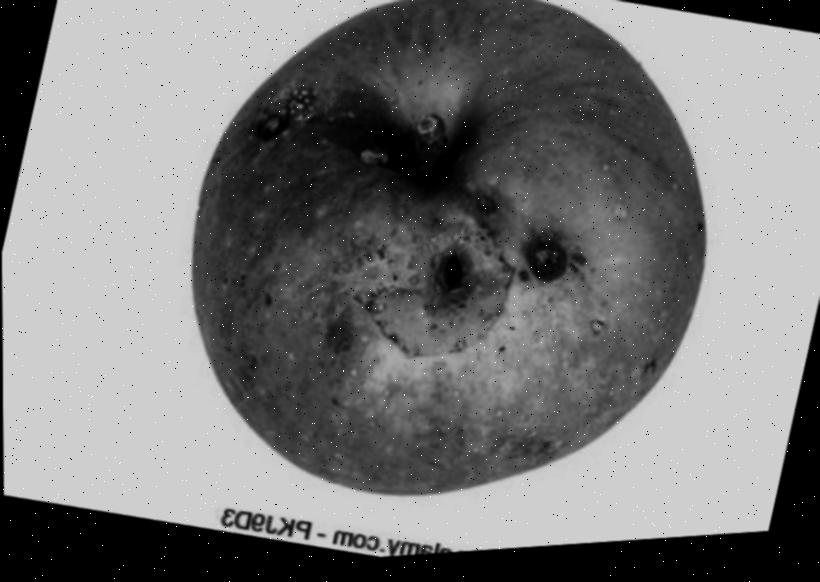SCAB: (85, 0, 766, 566)
